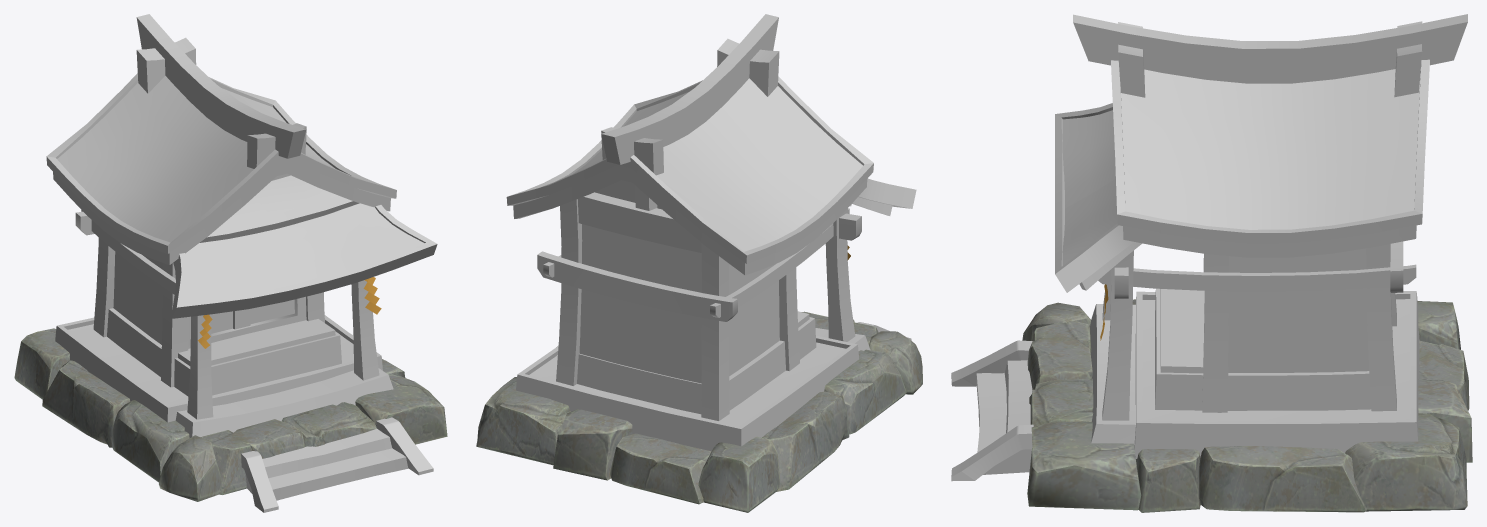
Rendered from SM_EastLands_Shrine_02.fbx.
3 views of the same model, side by side, from view 1: azimuth 30°, elevation 25°; view 2: azimuth 150°, elevation 25°; view 3: azimuth 270°, elevation 25° (orthographic). The views are drawn at different scales.
Visible parts, largest first — view 1: SM_EastLands_Shrine_02_LOD0; view 2: SM_EastLands_Shrine_02_LOD0; view 3: SM_EastLands_Shrine_02_LOD0.
Boxes of the visible parts, x1,y1,x2,y2 form: SM_EastLands_Shrine_02_LOD0: (14,14,447,512); SM_EastLands_Shrine_02_LOD0: (476,14,922,512); SM_EastLands_Shrine_02_LOD0: (951,14,1472,512).
Bounding box in the file's own units: 191 × 220 × 250.
